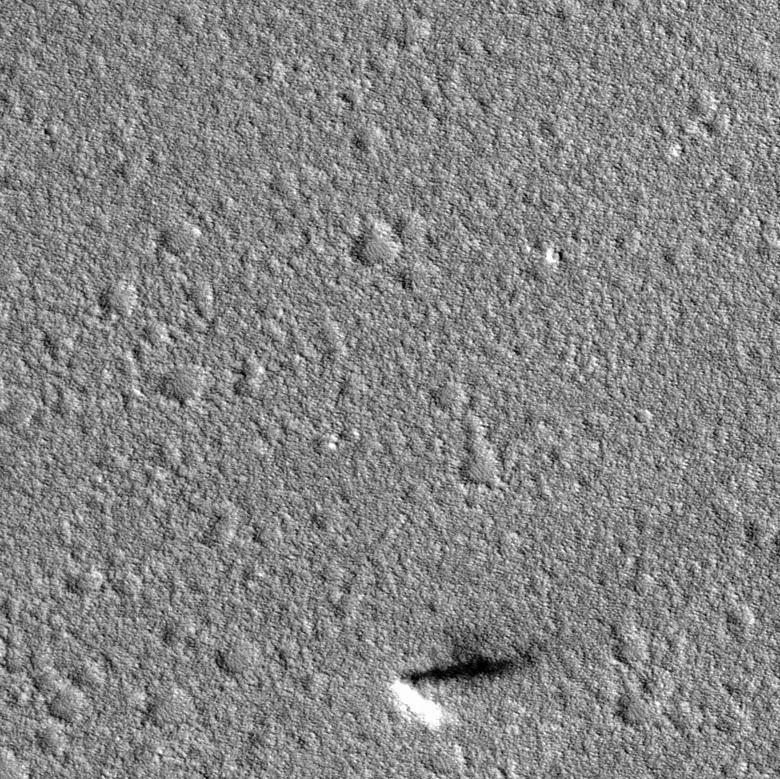dust_devil: (383, 648, 535, 732)
